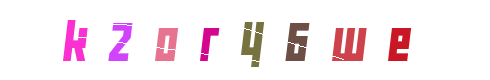2: (164, 0, 244, 80)
6: (235, 0, 315, 80)
E: (359, 0, 439, 80)
K: (54, 0, 134, 80)
O: (167, 0, 247, 80)
R: (167, 0, 247, 80)
W: (310, 0, 390, 80)
Y: (205, 0, 285, 80)
